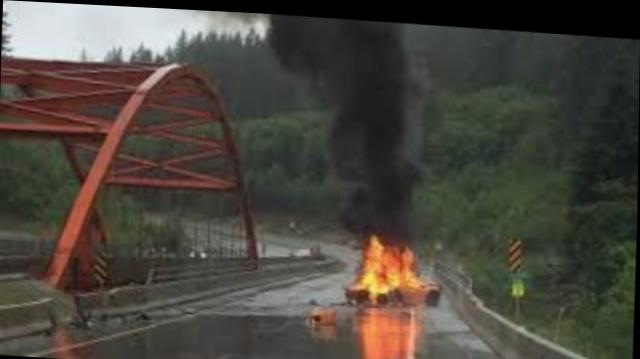fire: (340, 223, 451, 311)
